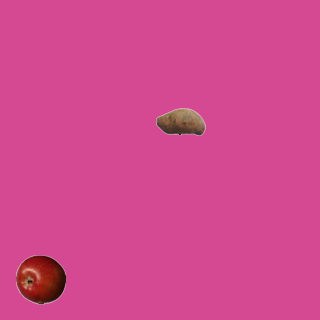Apple Braeburn: (15, 254, 65, 304)
Potato Sweet: (155, 96, 205, 146)
